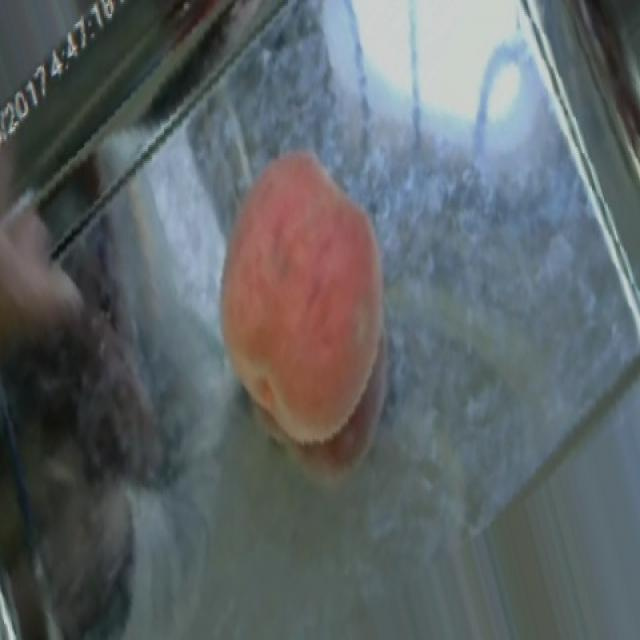Fruit: (185, 133, 423, 471)
